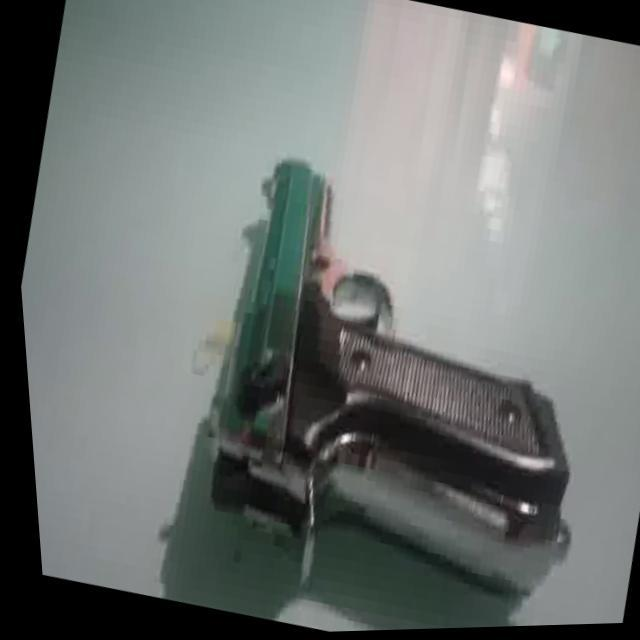weapon: (131, 136, 640, 637)
